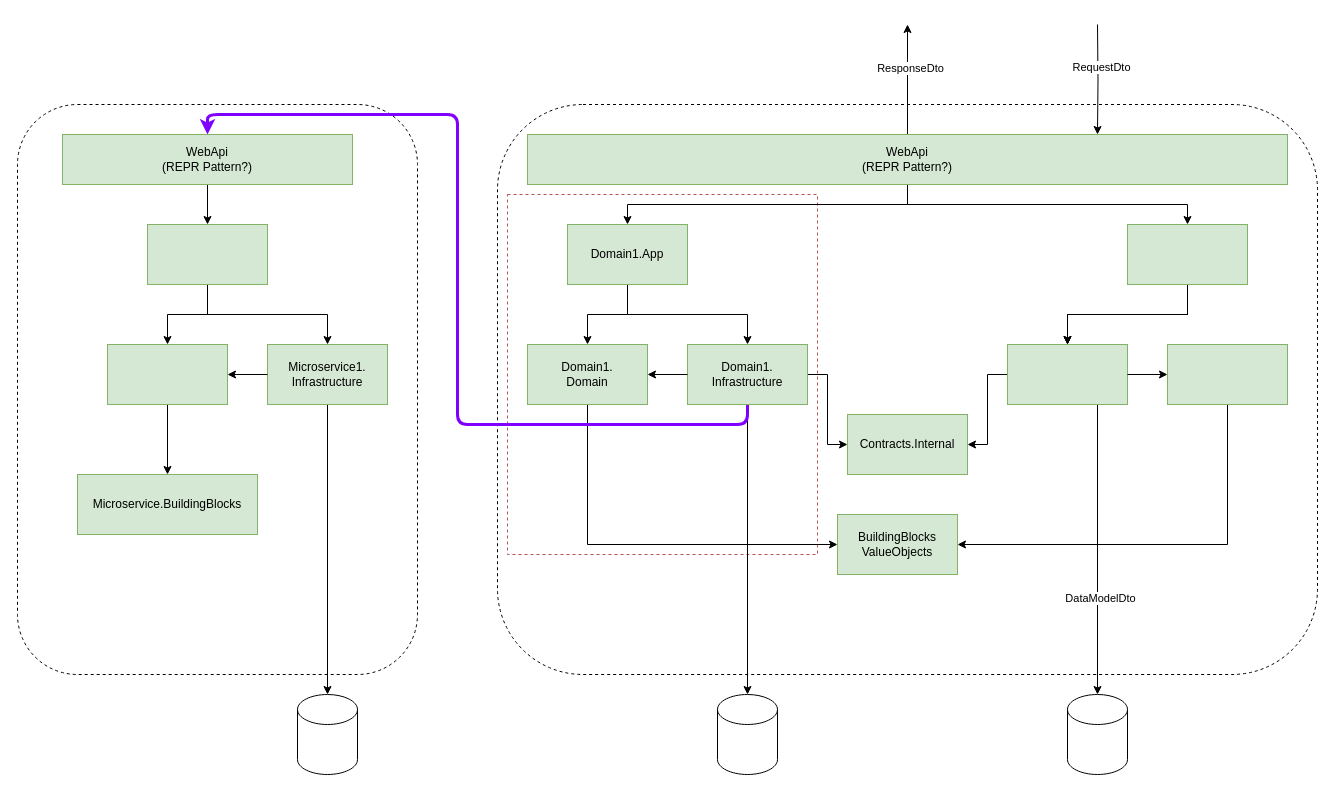
Some shapes in this 1335 by 792 pixel diagram are drawn without their labels. Each missing label, with the box of its shape:
Core.App: (1126, 224, 1248, 284)
Core.Domain: (1166, 344, 1288, 404)
Core.Infrastructure: (1006, 344, 1128, 404)
Microservice1. Domain: (106, 344, 228, 404)
Microservice1.App: (146, 224, 268, 284)
